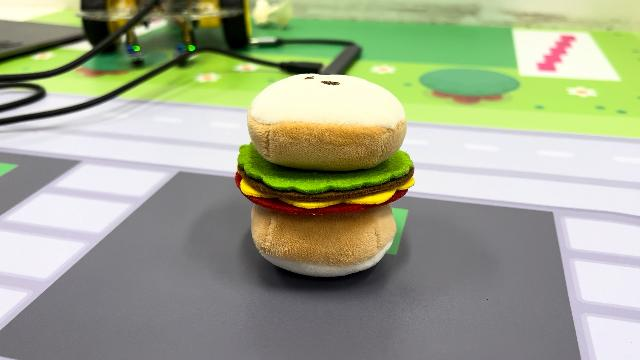sandwich: (232, 70, 418, 278)
